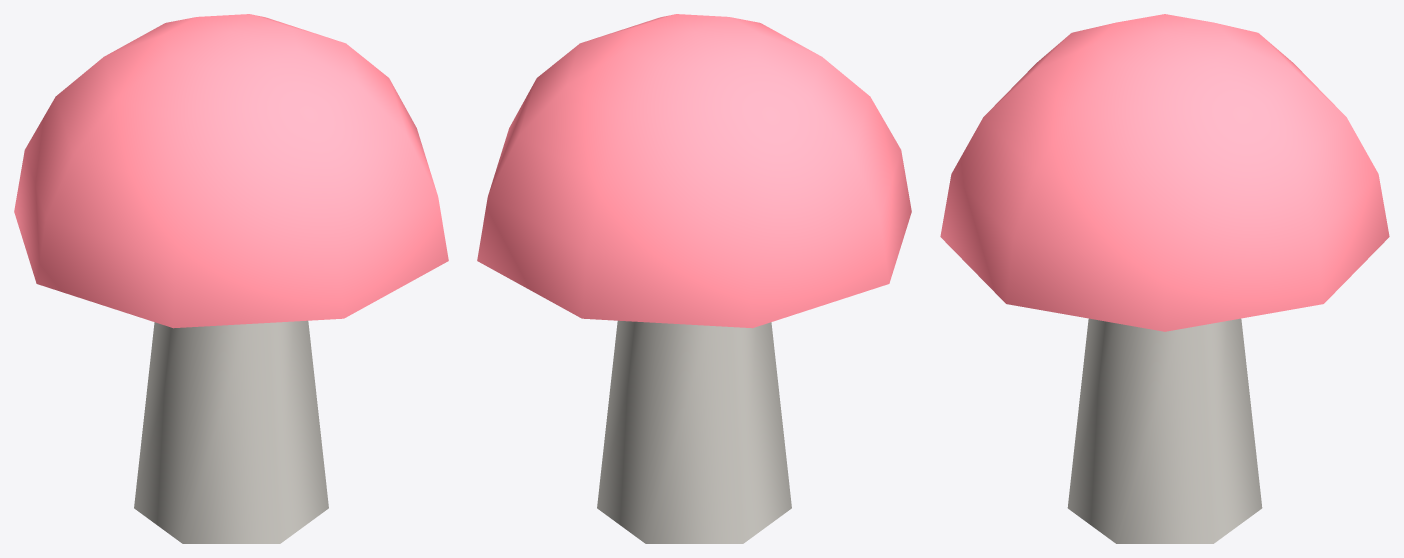
The model's file is mushroom_1.glb.
3 views of the same model, side by side, from view 1: azimuth 30°, elevation 25°; view 2: azimuth 150°, elevation 25°; view 3: azimuth 270°, elevation 25° (orthographic).
Visible parts, largest first — view 1: mushroom_1; view 2: mushroom_1; view 3: mushroom_1.
Boxes of the visible parts, x1,y1,x2,y2 form: mushroom_1: (14, 14, 448, 543); mushroom_1: (477, 14, 911, 543); mushroom_1: (940, 14, 1389, 543).
Size of the model in its own units: 0.6 by 0.7 by 0.6.
